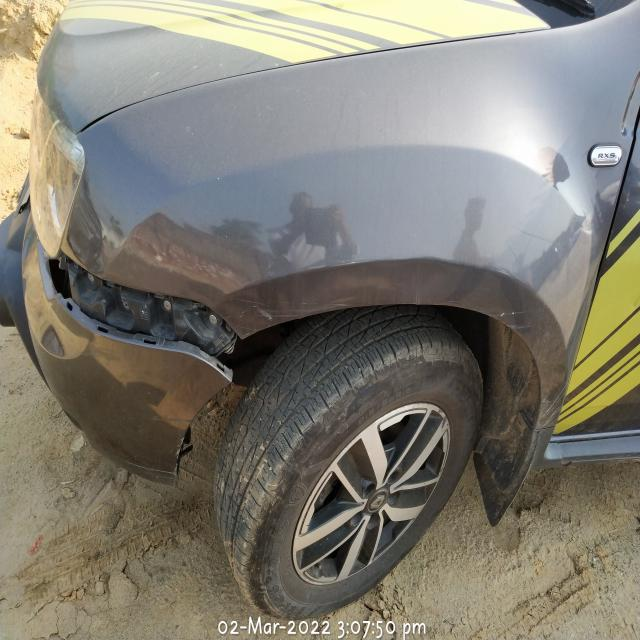damage: (34, 211, 247, 388)
